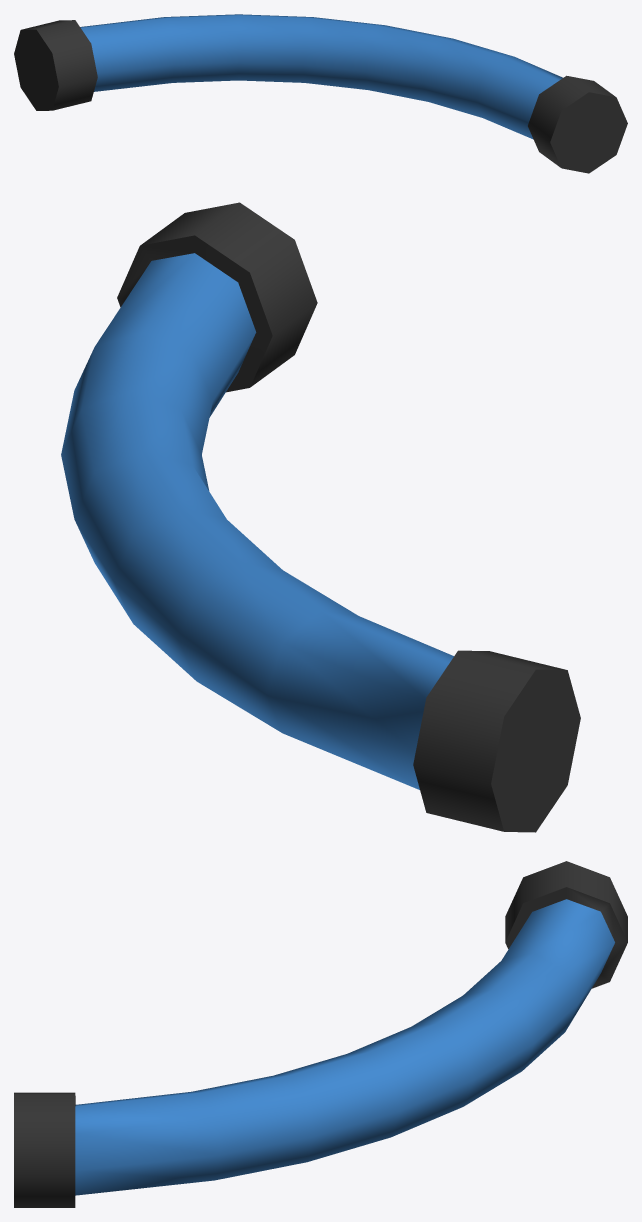
Rendered from Cable4.fbx.
3 renders of one model, top to bottom at view 1: azimuth 30°, elevation 25°; view 2: azimuth 150°, elevation 25°; view 3: azimuth 270°, elevation 25°, orthographic. The views are drawn at different scales.
Parts seen in each view (by area): view 1: Angle; view 2: Angle; view 3: Angle.
Boxes of the visible parts, x1,y1,x2,y2 form: Angle: (14,14,627,173); Angle: (61,202,580,832); Angle: (14,861,627,1207).
Bounding box in the file's own units: 100 × 20 × 100.
